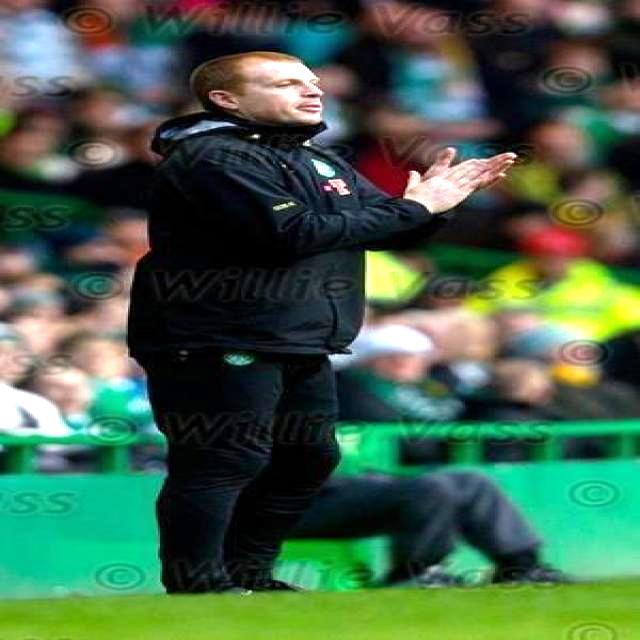no_head_wear: (190, 51, 303, 95)
person: (128, 52, 514, 591)
